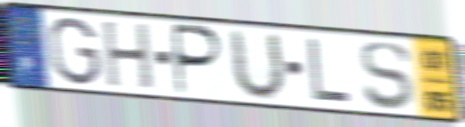G: (46, 15, 104, 87)
H: (102, 19, 156, 93)
L: (305, 35, 354, 106)
P: (172, 21, 226, 98)
S: (357, 39, 414, 112)
U: (228, 26, 288, 102)
